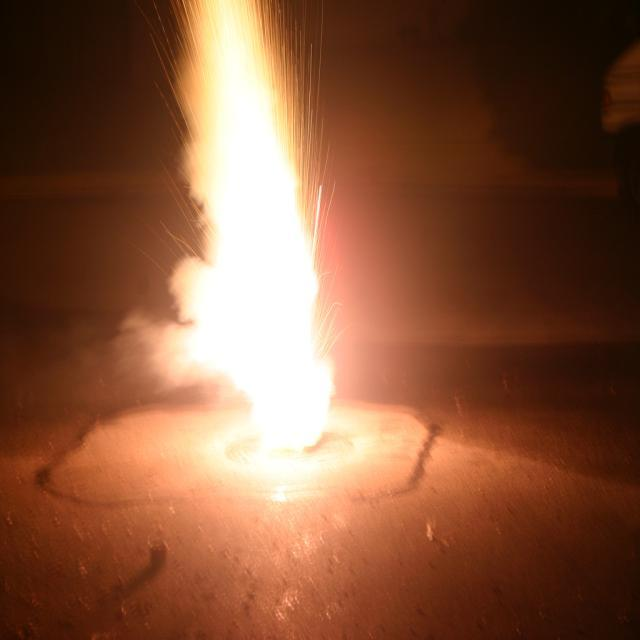Fire: (220, 118, 328, 420)
